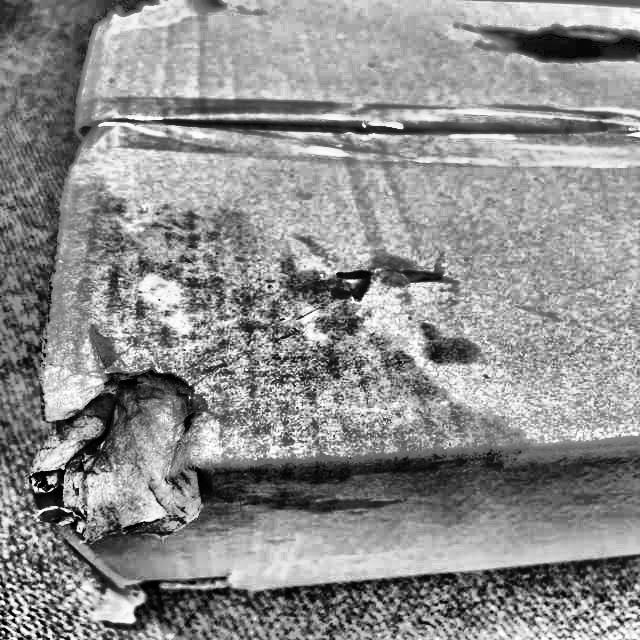box: (42, 2, 640, 580)
hole: (466, 13, 638, 72)
wet: (77, 195, 501, 525)
